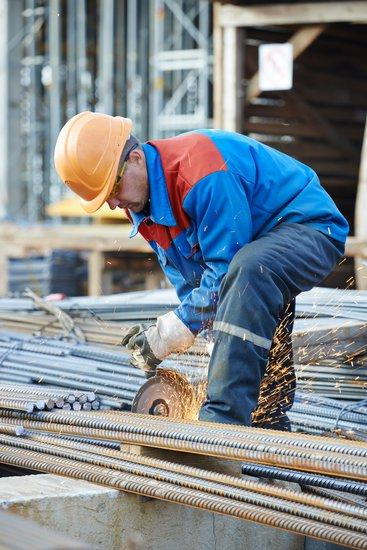helmet: (54, 113, 131, 211)
